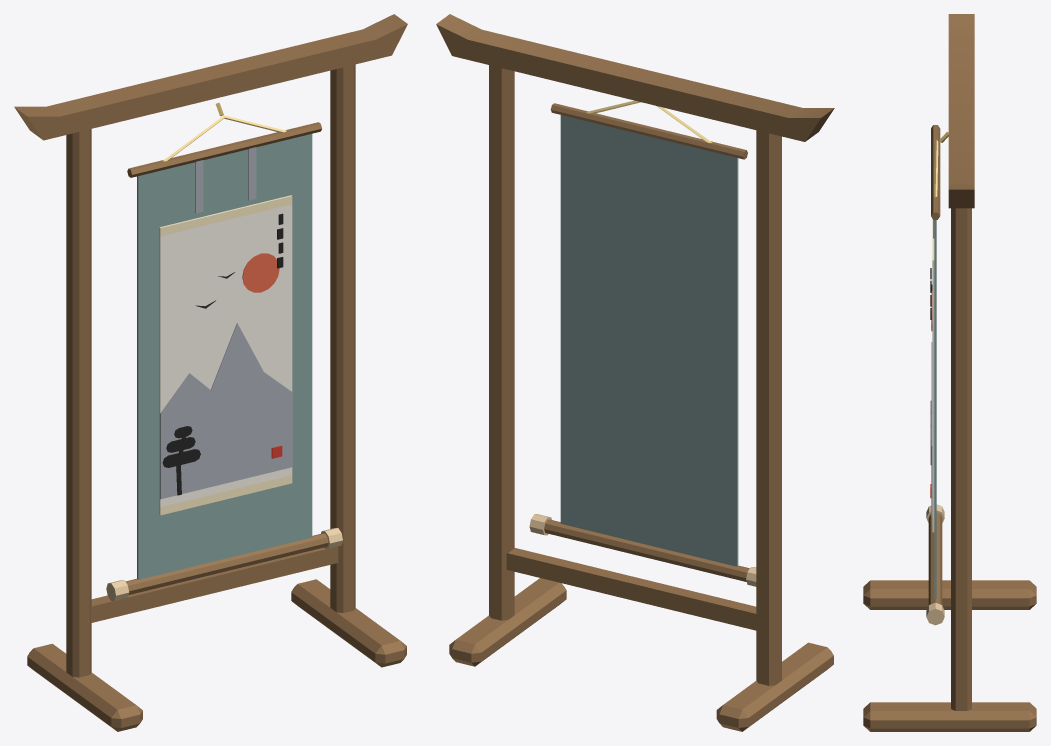
The model's file is furn_kakejiku.glb.
3 renders of one model, left to right at view 1: azimuth 30°, elevation 25°; view 2: azimuth 150°, elevation 25°; view 3: azimuth 270°, elevation 25°, orthographic. The views are drawn at different scales.
Parts seen in each view (by area): view 1: furn_kakejiku_body; view 2: furn_kakejiku_body; view 3: furn_kakejiku_body.
Boxes of the visible parts, x1,y1,x2,y2 form: furn_kakejiku_body: [14, 14, 407, 731]; furn_kakejiku_body: [436, 14, 834, 731]; furn_kakejiku_body: [863, 14, 1036, 731].
Bounding box in the file's own units: 0.72 × 1.08 × 0.3.
